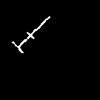double_crochet: (12, 17, 49, 52)
